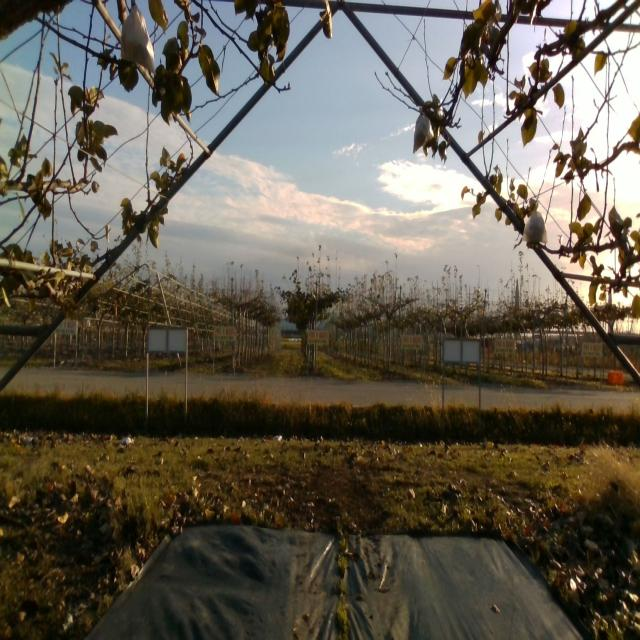pearbags: (112, 0, 158, 69), (410, 108, 434, 156), (522, 201, 548, 245)
